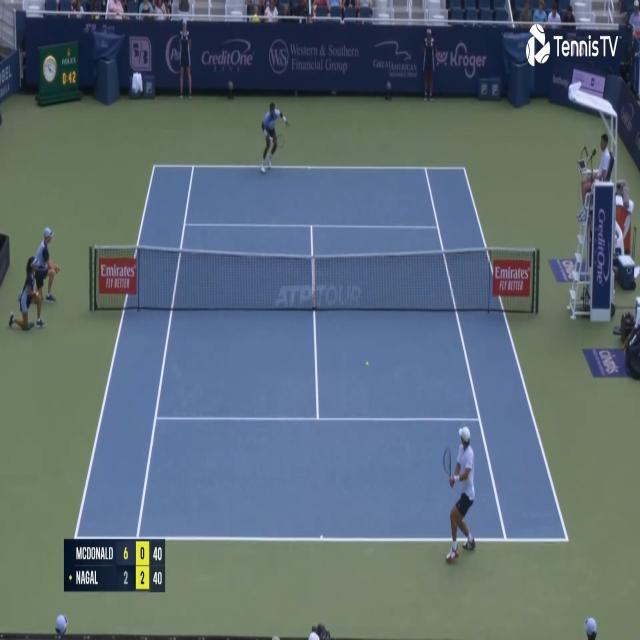tennis-player: (440, 423, 479, 568), (259, 96, 291, 172)
